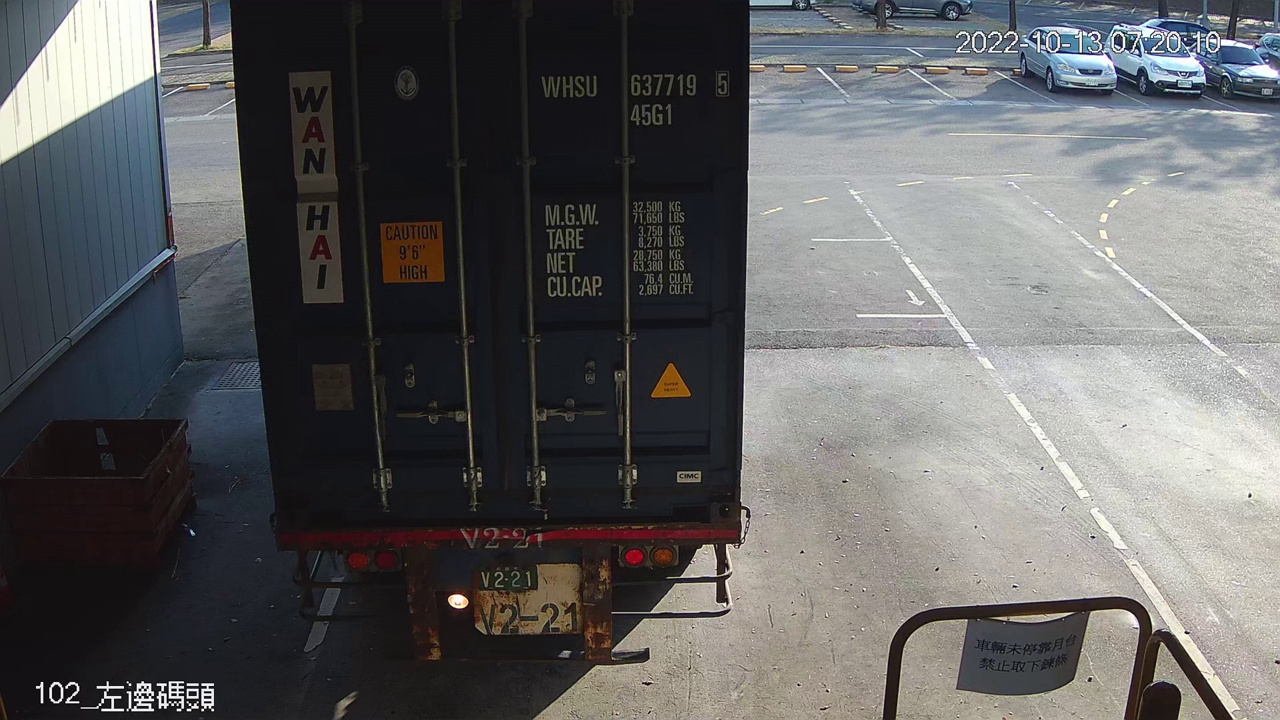container: (533, 65, 740, 132)
